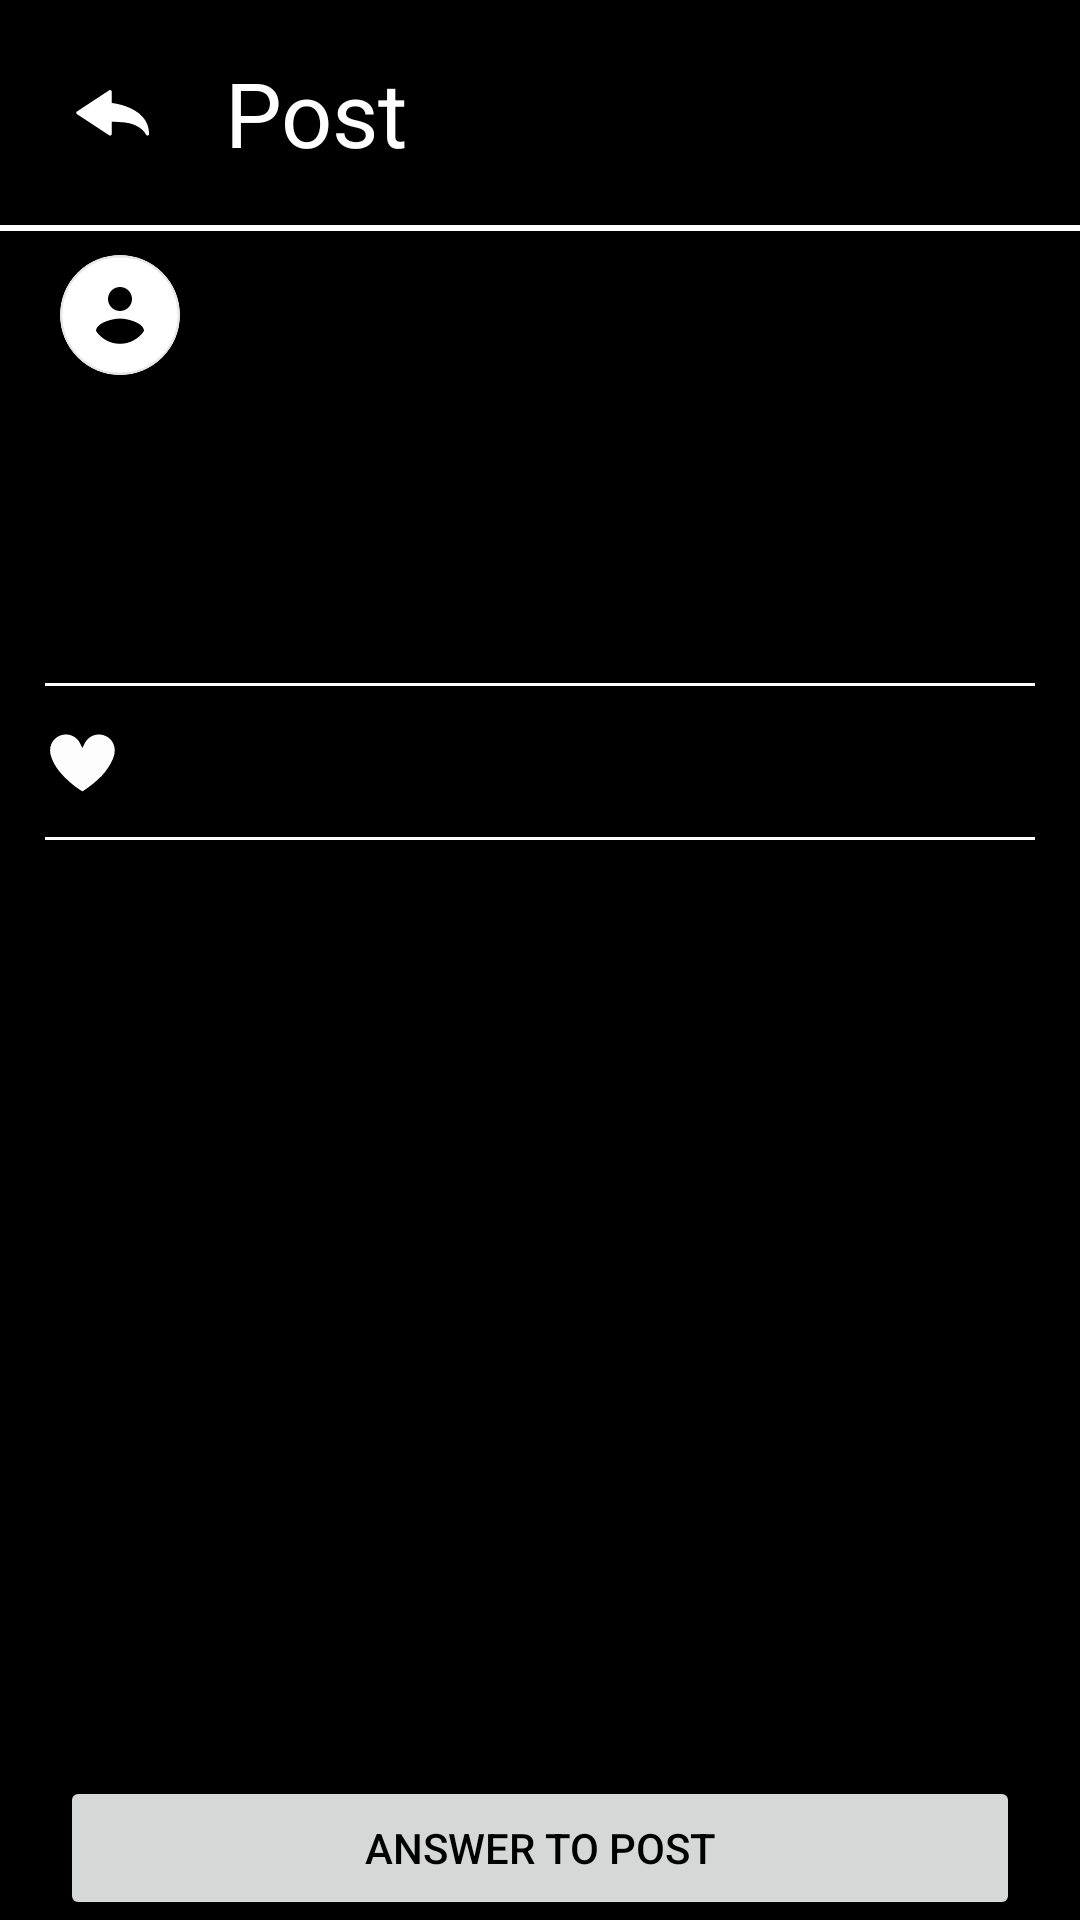

Where to tap for icons on this 1080px×1920px app screen, as (x,y):
back arrow: (112,113)
like empty: (82,763)
place holder user: (120,315)
